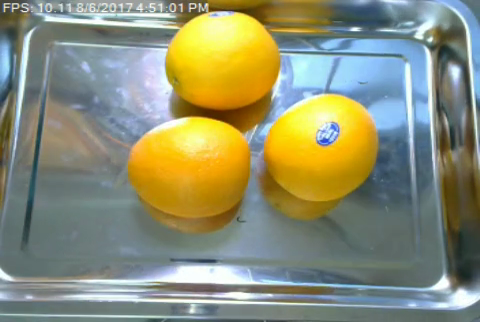Orange: (263, 93, 377, 202), (127, 116, 248, 217), (164, 11, 281, 108)
